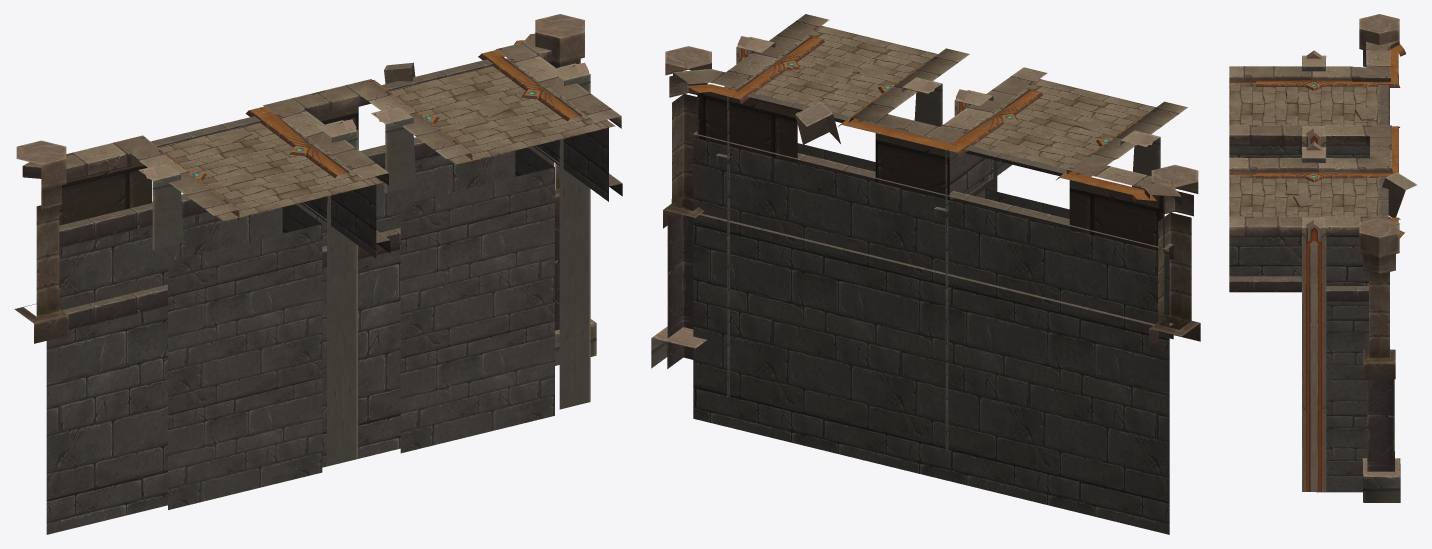
The model's file is terrain_section03_guanka1108.FBX.
The picture shows the model from 3 angles, left to right: view 1: azimuth 30°, elevation 25°; view 2: azimuth 150°, elevation 25°; view 3: azimuth 270°, elevation 25°; orthographic projection. The views are drawn at different scales.
Visible parts, largest first — view 1: terrain_section03_guanka1108; view 2: terrain_section03_guanka1108; view 3: terrain_section03_guanka1108.
Boxes of the visible parts, x1=… form: terrain_section03_guanka1108: x1=14, y1=14, x2=622, y2=534; terrain_section03_guanka1108: x1=651, y1=14, x2=1200, y2=534; terrain_section03_guanka1108: x1=1229, y1=14, x2=1416, y2=502.
Bounding box in the file's own units: 30.06 × 19.33 × 10.68.
